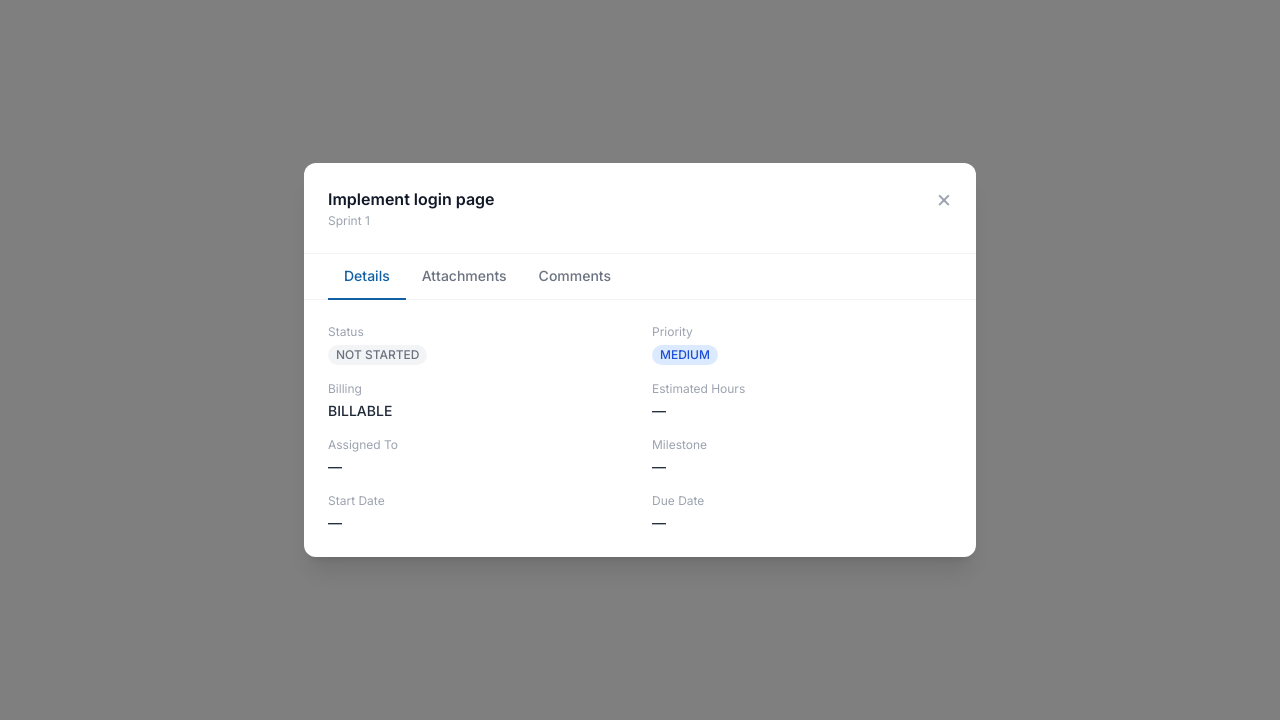
Test case: TaskDetail_CommentsTab_ShowsCommentsList
Click the button "comments": (575, 277) [523, 254, 627, 300]
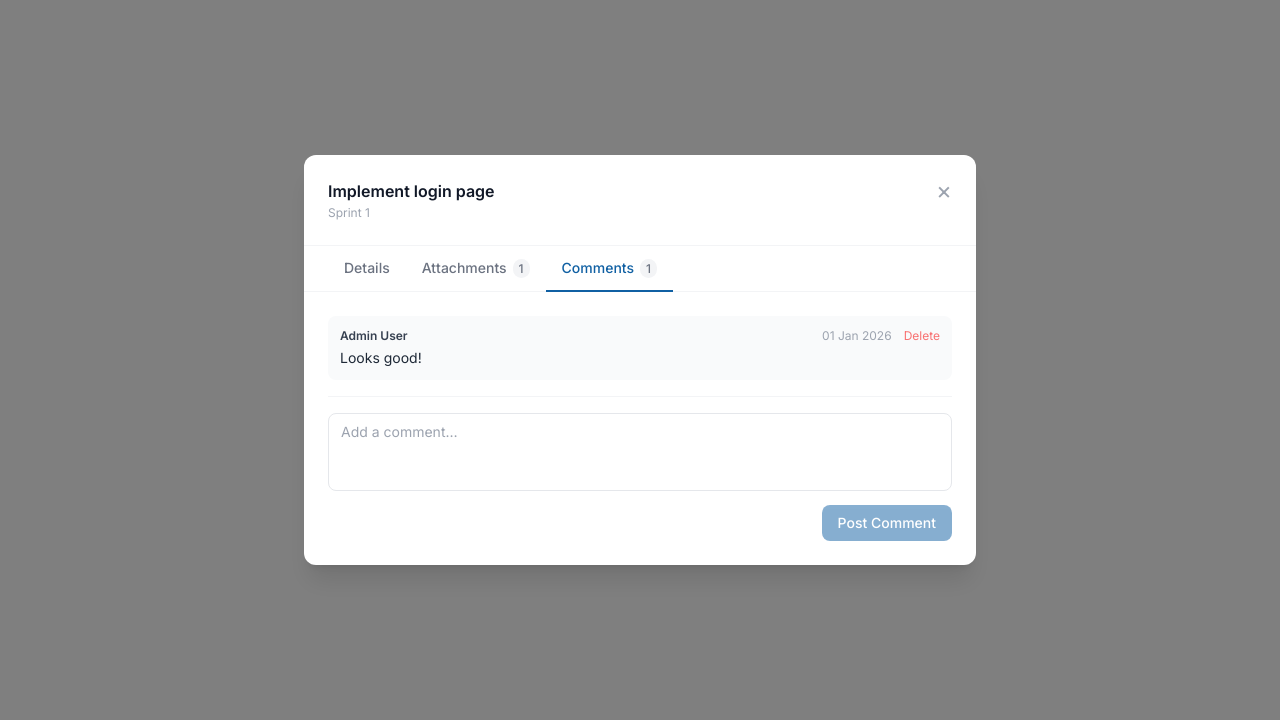
Check: the text "Looks good!" is shown, box [340, 349, 422, 366]
